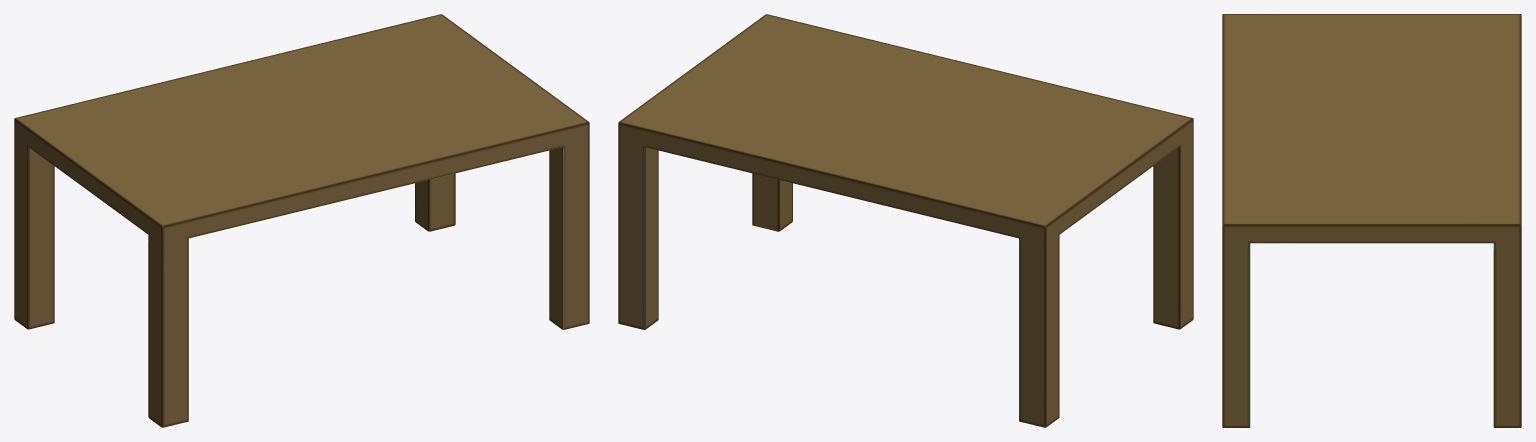
The model's file is kithen_table.fbx.
The picture shows the model from 3 angles, left to right: view 1: azimuth 30°, elevation 25°; view 2: azimuth 150°, elevation 25°; view 3: azimuth 270°, elevation 25°; orthographic projection.
Visible parts, largest first — view 1: cube; view 2: cube; view 3: cube.
Boxes of the visible parts, box(x1,y1,x2,y2) form: cube: box(14, 14, 589, 427); cube: box(618, 14, 1193, 427); cube: box(1222, 14, 1521, 427).
Size of the model in its own units: 250 by 112 by 150.
Materials: 1 (1 with a texture image).
